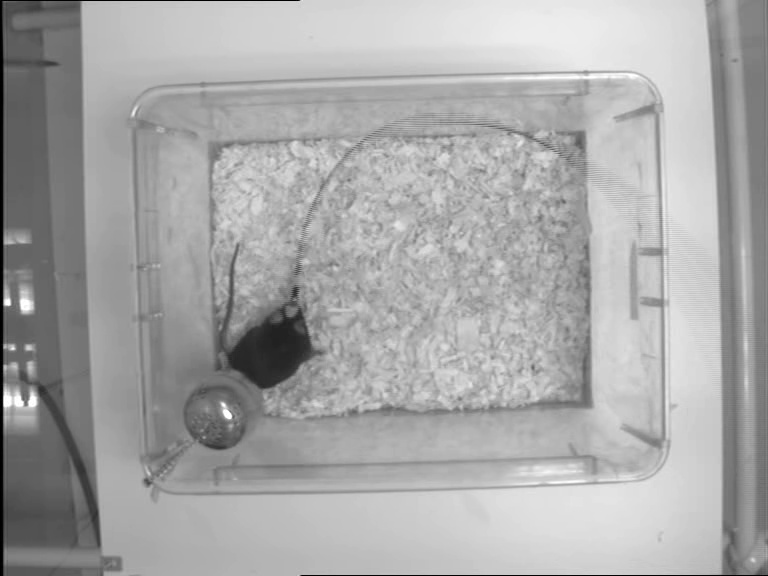mice: (217, 241, 329, 389)
